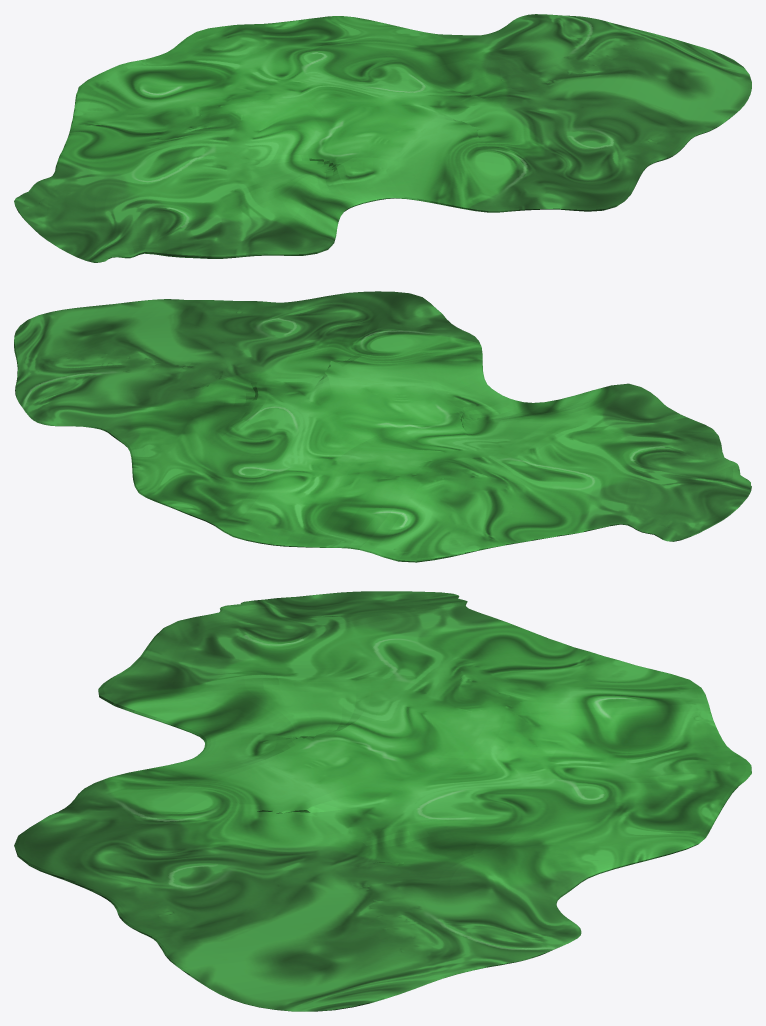
File: marre_acide.fbx
3 views of the same model, one above another, from view 1: azimuth 30°, elevation 25°; view 2: azimuth 150°, elevation 25°; view 3: azimuth 270°, elevation 25° (orthographic). The views are drawn at different scales.
Visible parts, largest first — view 1: marre_acide:Group36162; view 2: marre_acide:Group36162; view 3: marre_acide:Group36162.
Boxes of the visible parts, box(x1,y1,x2,y2) form: marre_acide:Group36162: box(14, 14, 751, 262); marre_acide:Group36162: box(14, 291, 751, 562); marre_acide:Group36162: box(14, 591, 751, 1011).
Bounding box in the file's own units: 32.78 × 1.47 × 23.41.
